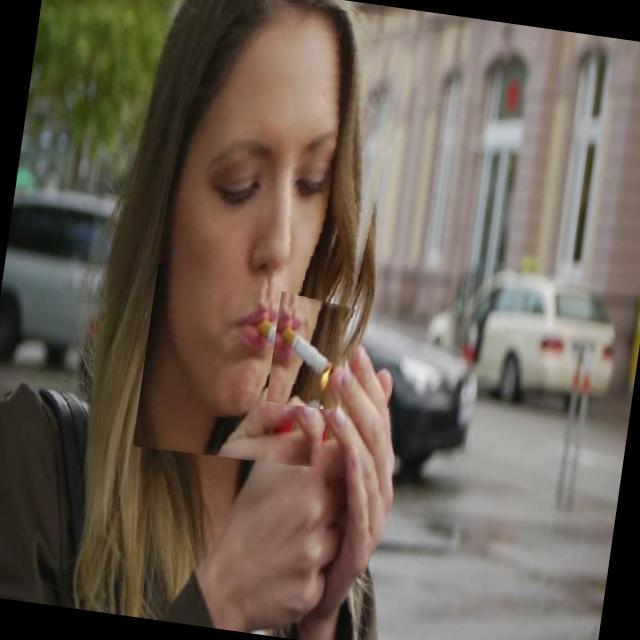cigarette: (266, 291, 358, 412)
